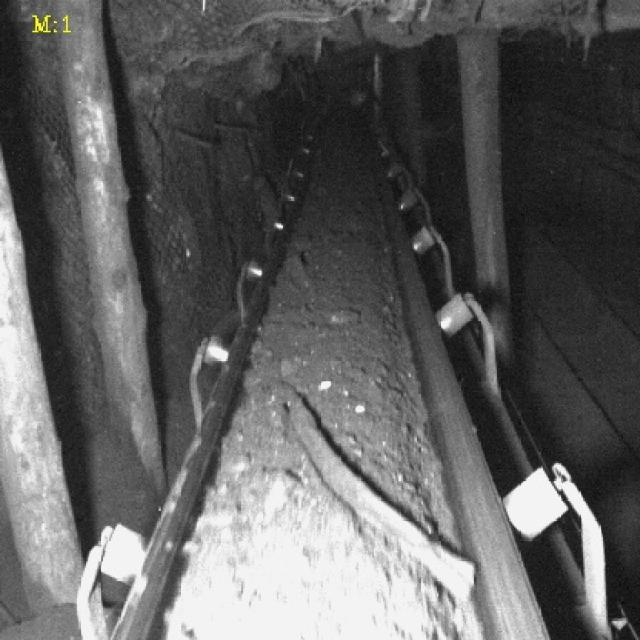bolt: (283, 391, 475, 598)
large_sized_coal: (320, 305, 363, 329)
